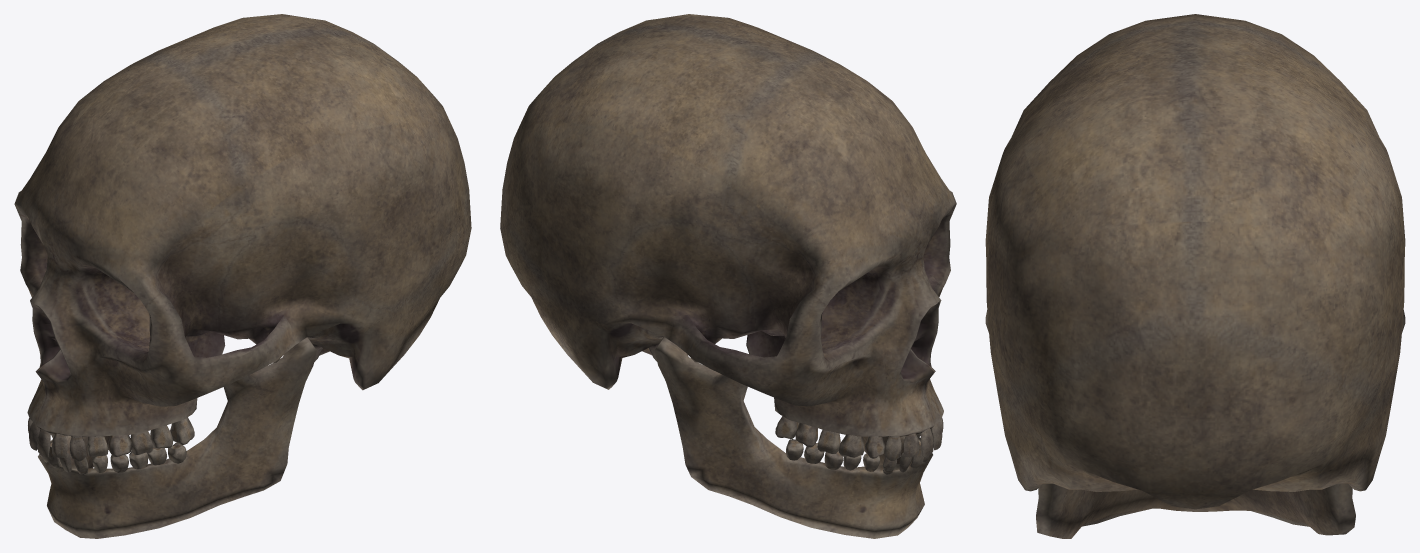
File: sm_Skull_01_01.fbx
3 renders of one model, left to right at view 1: azimuth 30°, elevation 25°; view 2: azimuth 150°, elevation 25°; view 3: azimuth 270°, elevation 25°, orthographic. The views are drawn at different scales.
Parts seen in each view (by area): view 1: sm_Skull_01_01_LOD0; view 2: sm_Skull_01_01_LOD0; view 3: sm_Skull_01_01_LOD0.
Part boxes in pixels (x1,y1,x2,y2): sm_Skull_01_01_LOD0: [14, 14, 471, 538]; sm_Skull_01_01_LOD0: [500, 14, 956, 538]; sm_Skull_01_01_LOD0: [985, 14, 1405, 538].
Size of the model in its own units: 23.98 by 16.42 by 24.65.
